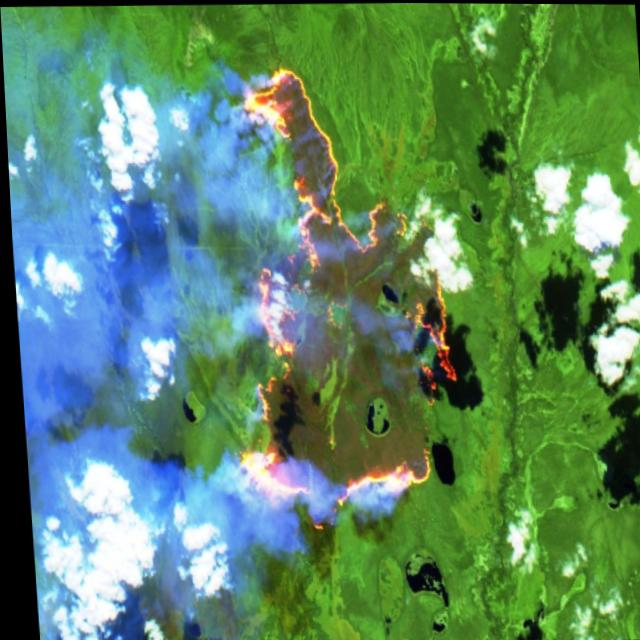fire: (199, 47, 465, 537)
